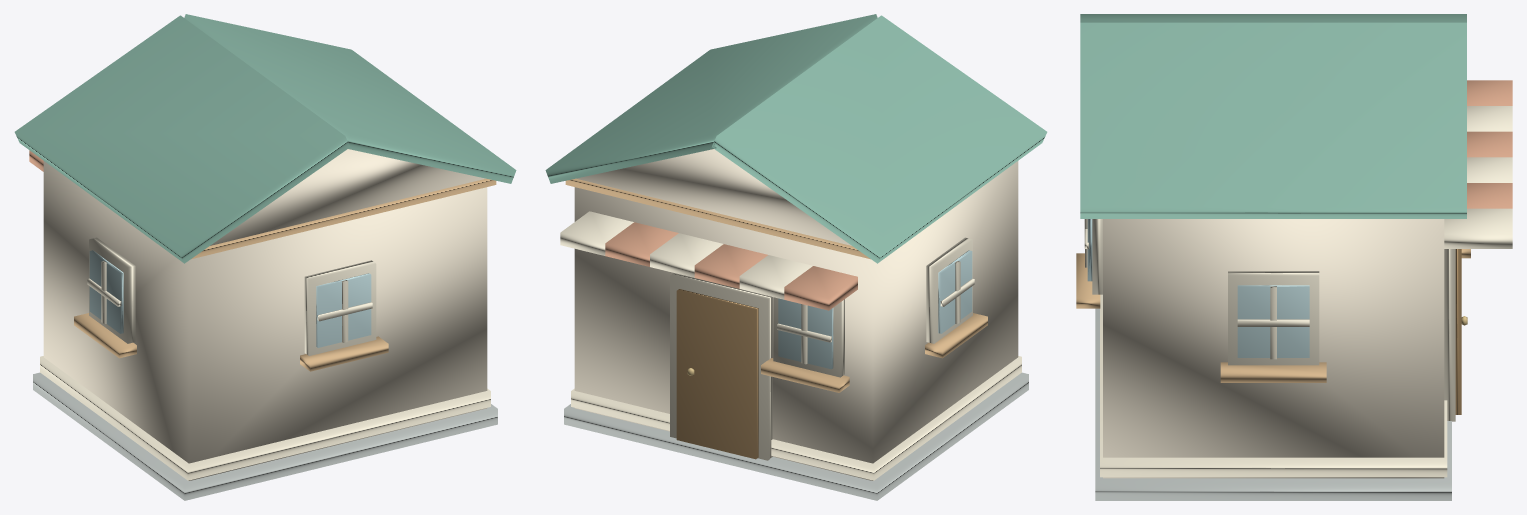
Rendered from shop_low.glb.
3 renders of one model, left to right at view 1: azimuth 30°, elevation 25°; view 2: azimuth 150°, elevation 25°; view 3: azimuth 270°, elevation 25°, orthographic. The views are drawn at different scales.
Bounding box in the file's own units: 3.62 × 3.4 × 3.45.
